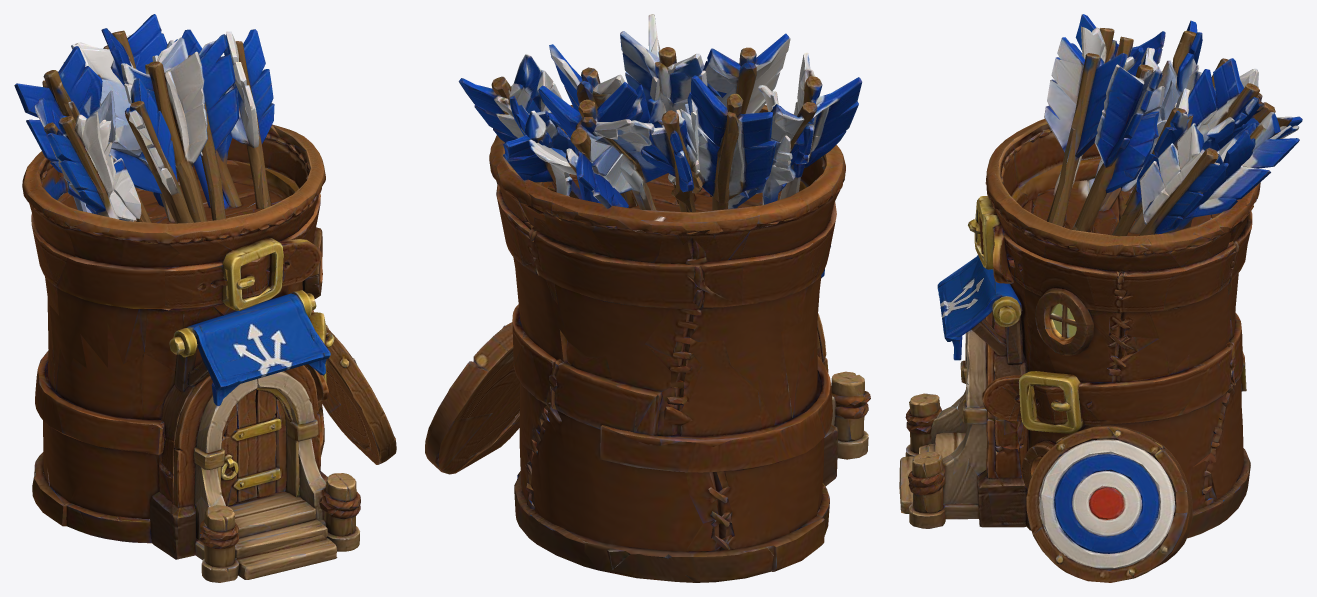
File: archer_shop.glb
3 views of the same model, side by side, from view 1: azimuth 30°, elevation 25°; view 2: azimuth 150°, elevation 25°; view 3: azimuth 270°, elevation 25° (orthographic). The views are drawn at different scales.
Bounding box in the file's own units: 1.58 × 1.9 × 1.6.
Materials: 1 (1 with a texture image).
